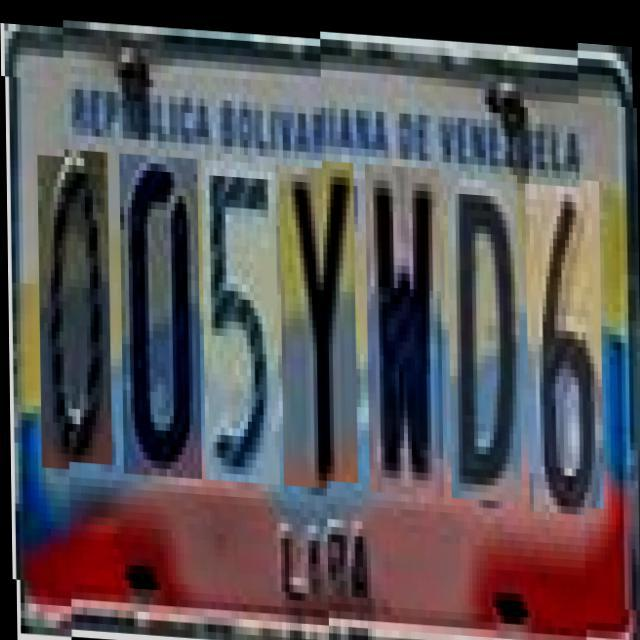0: (118, 144, 200, 468)
5: (200, 148, 278, 472)
6: (524, 175, 602, 507)
D: (446, 171, 520, 495)
O: (36, 139, 110, 456)
W: (364, 158, 442, 491)
Y: (278, 154, 356, 478)
